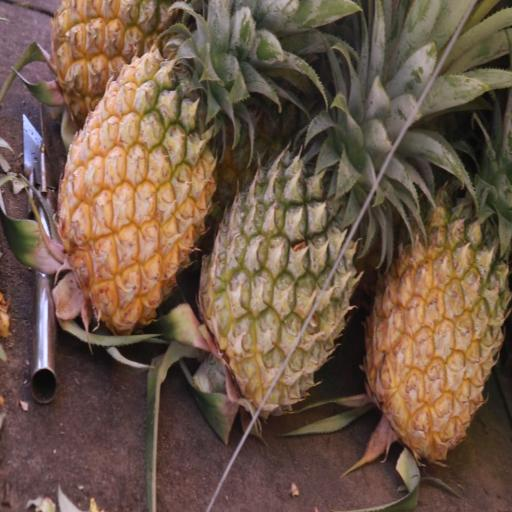Pineapple - v8 v1: (358, 91, 512, 466), (59, 0, 228, 340)
